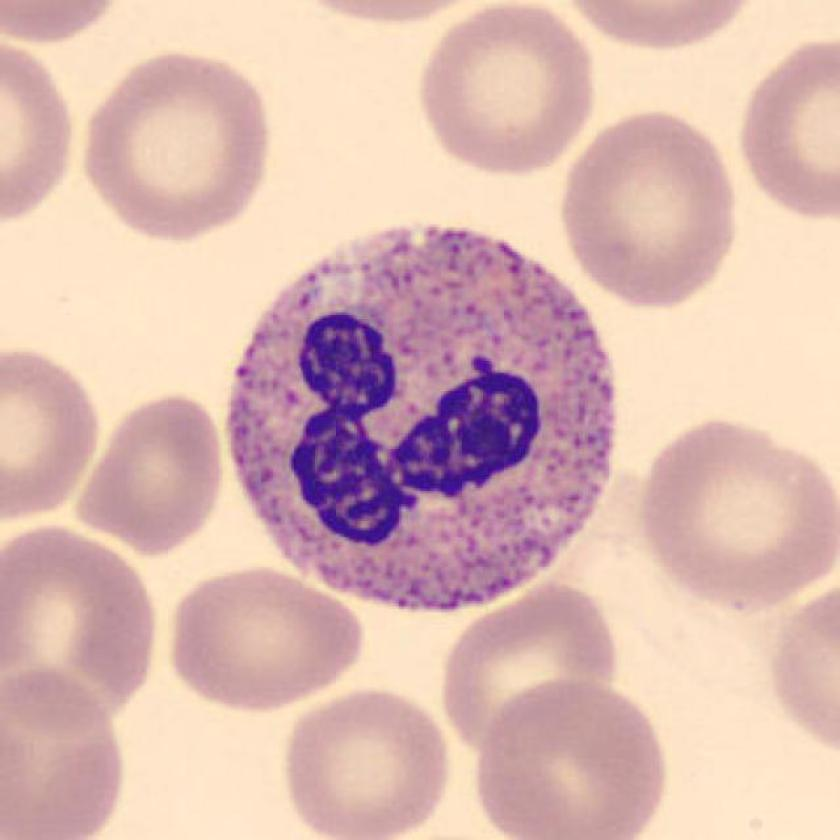neutrophil: (226, 225, 613, 610)
